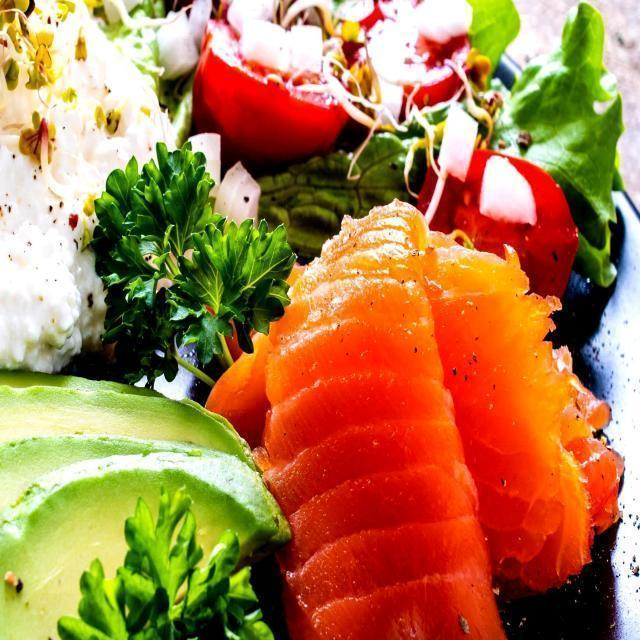Salmon: (251, 235, 625, 622)
